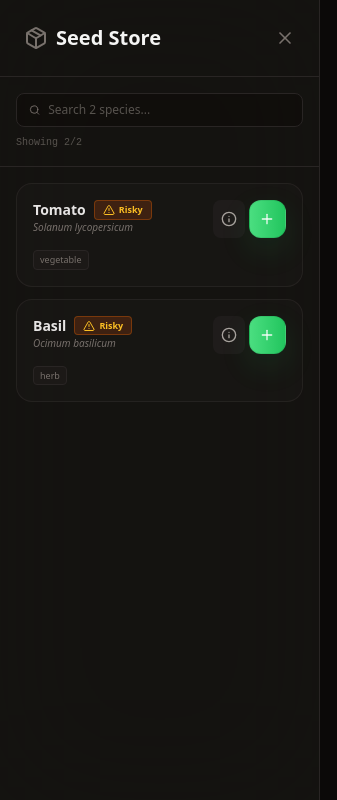
Test case: SeedStore › should filter catalog based on search query
This screenshot has width=337, height=800.
Expected: the text "Showing 2/2" is shown, [16, 137, 82, 148]
Type "tomato" into the field with placeholder "Search 2 species...".
click(169, 110); type("tomato")  # box [48, 102, 290, 118]
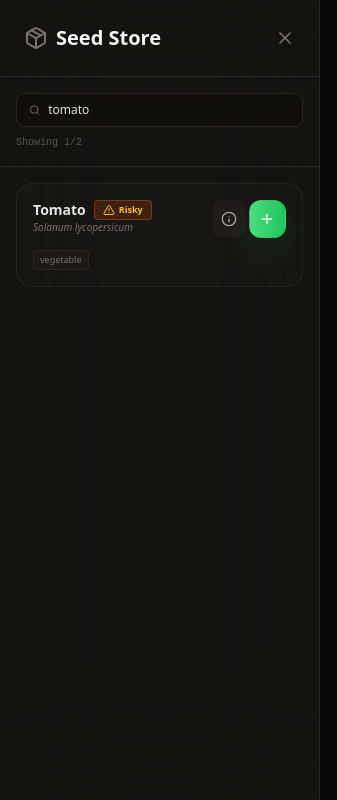
Expected: the text "Showing 1/2" is shown, [16, 137, 82, 148]
Result: the heading "Basil" is gone
